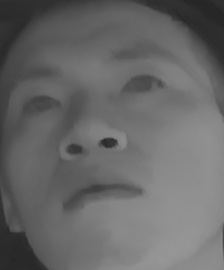eye: (114, 66, 168, 100), (18, 91, 64, 124)
mouth: (54, 171, 147, 219)
